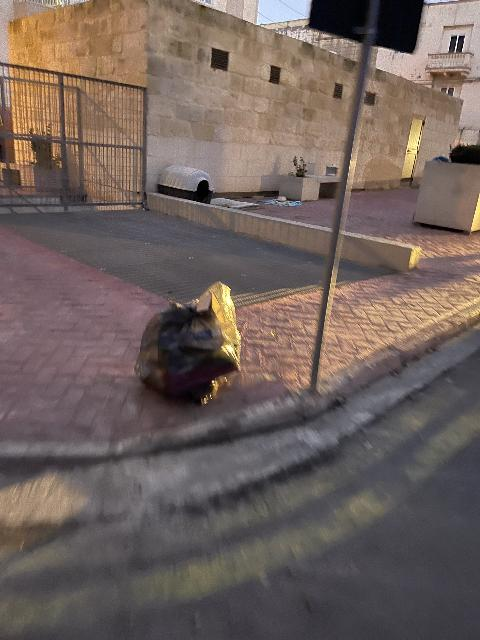Recyclable -Grey-: (135, 282, 241, 404)
